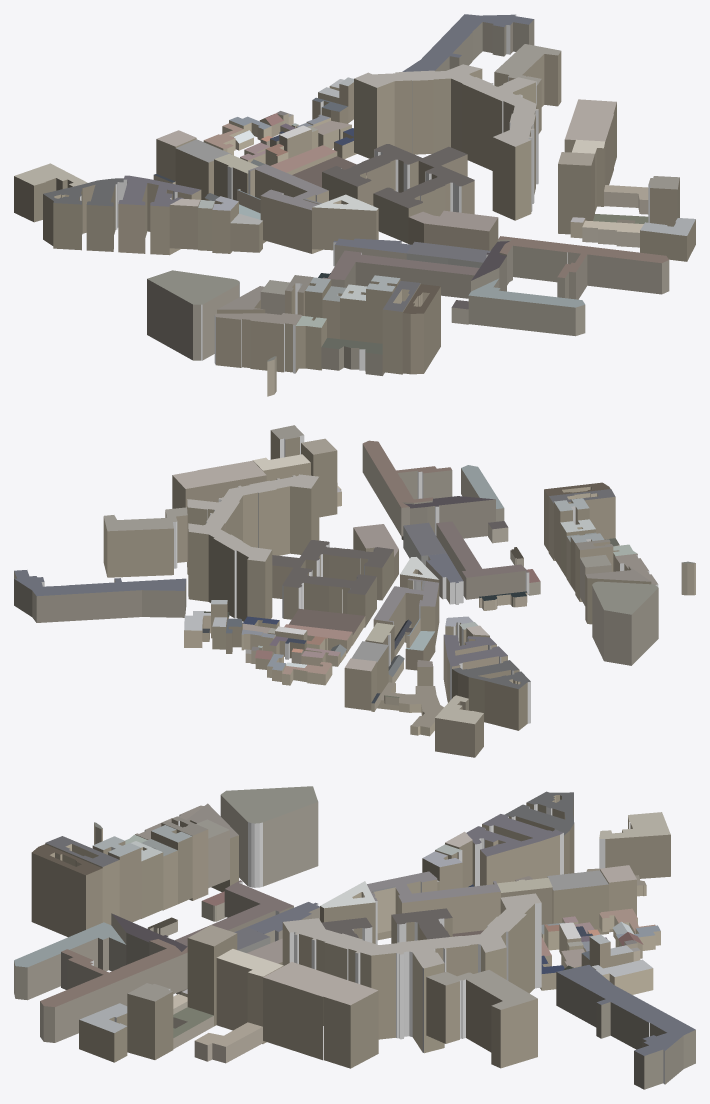
3 renders of one model, top to bottom at view 1: azimuth 30°, elevation 25°; view 2: azimuth 150°, elevation 25°; view 3: azimuth 270°, elevation 25°, orthographic. The views are drawn at different scales.
Visible parts, largest first — view 1: tuile; view 2: tuile; view 3: tuile.
Part boxes in pixels (bbox=[...]): tuile: bbox=[14, 14, 695, 396]; tuile: bbox=[14, 425, 695, 757]; tuile: bbox=[14, 786, 695, 1089].
Size of the model in its own units: 305 by 62.42 by 295.
